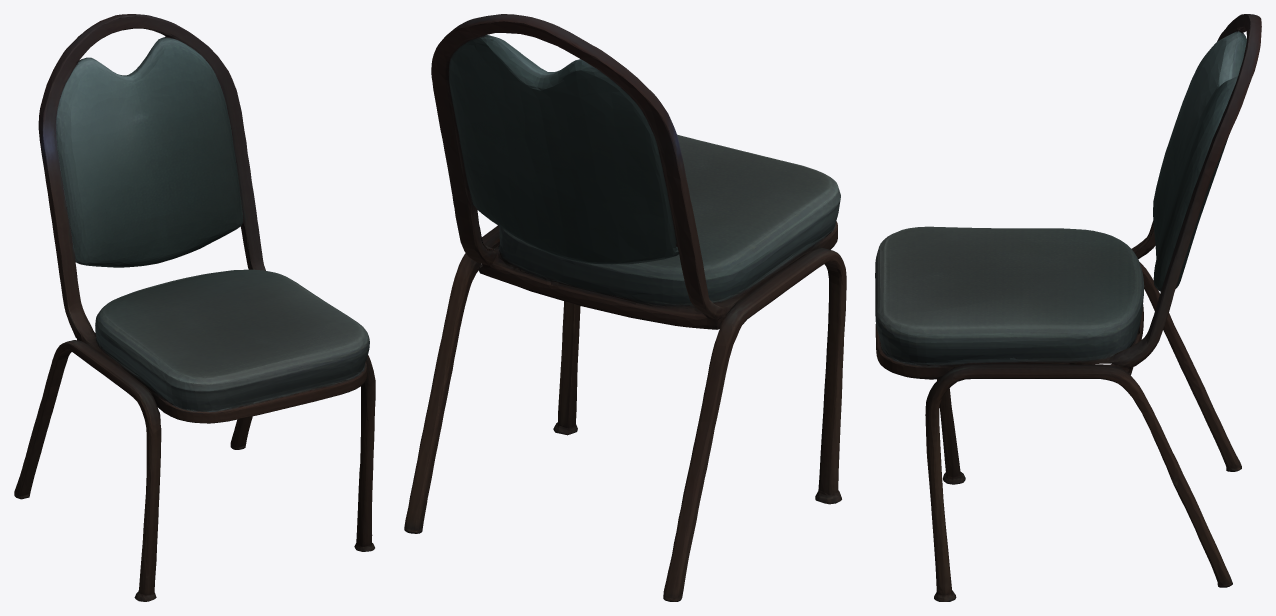
The picture shows the model from 3 angles, left to right: view 1: azimuth 30°, elevation 25°; view 2: azimuth 150°, elevation 25°; view 3: azimuth 270°, elevation 25°; orthographic projection. The views are drawn at different scales.
Parts seen in each view (by area): view 1: world; view 2: world; view 3: world.
Part boxes in pixels (x1,y1,x2,y2): world: (14, 14, 375, 601); world: (404, 14, 846, 601); world: (875, 14, 1261, 601).
Size of the model in its own units: 0.5347 by 0.9996 by 0.6811.
Materials: 1 (1 with a texture image).
